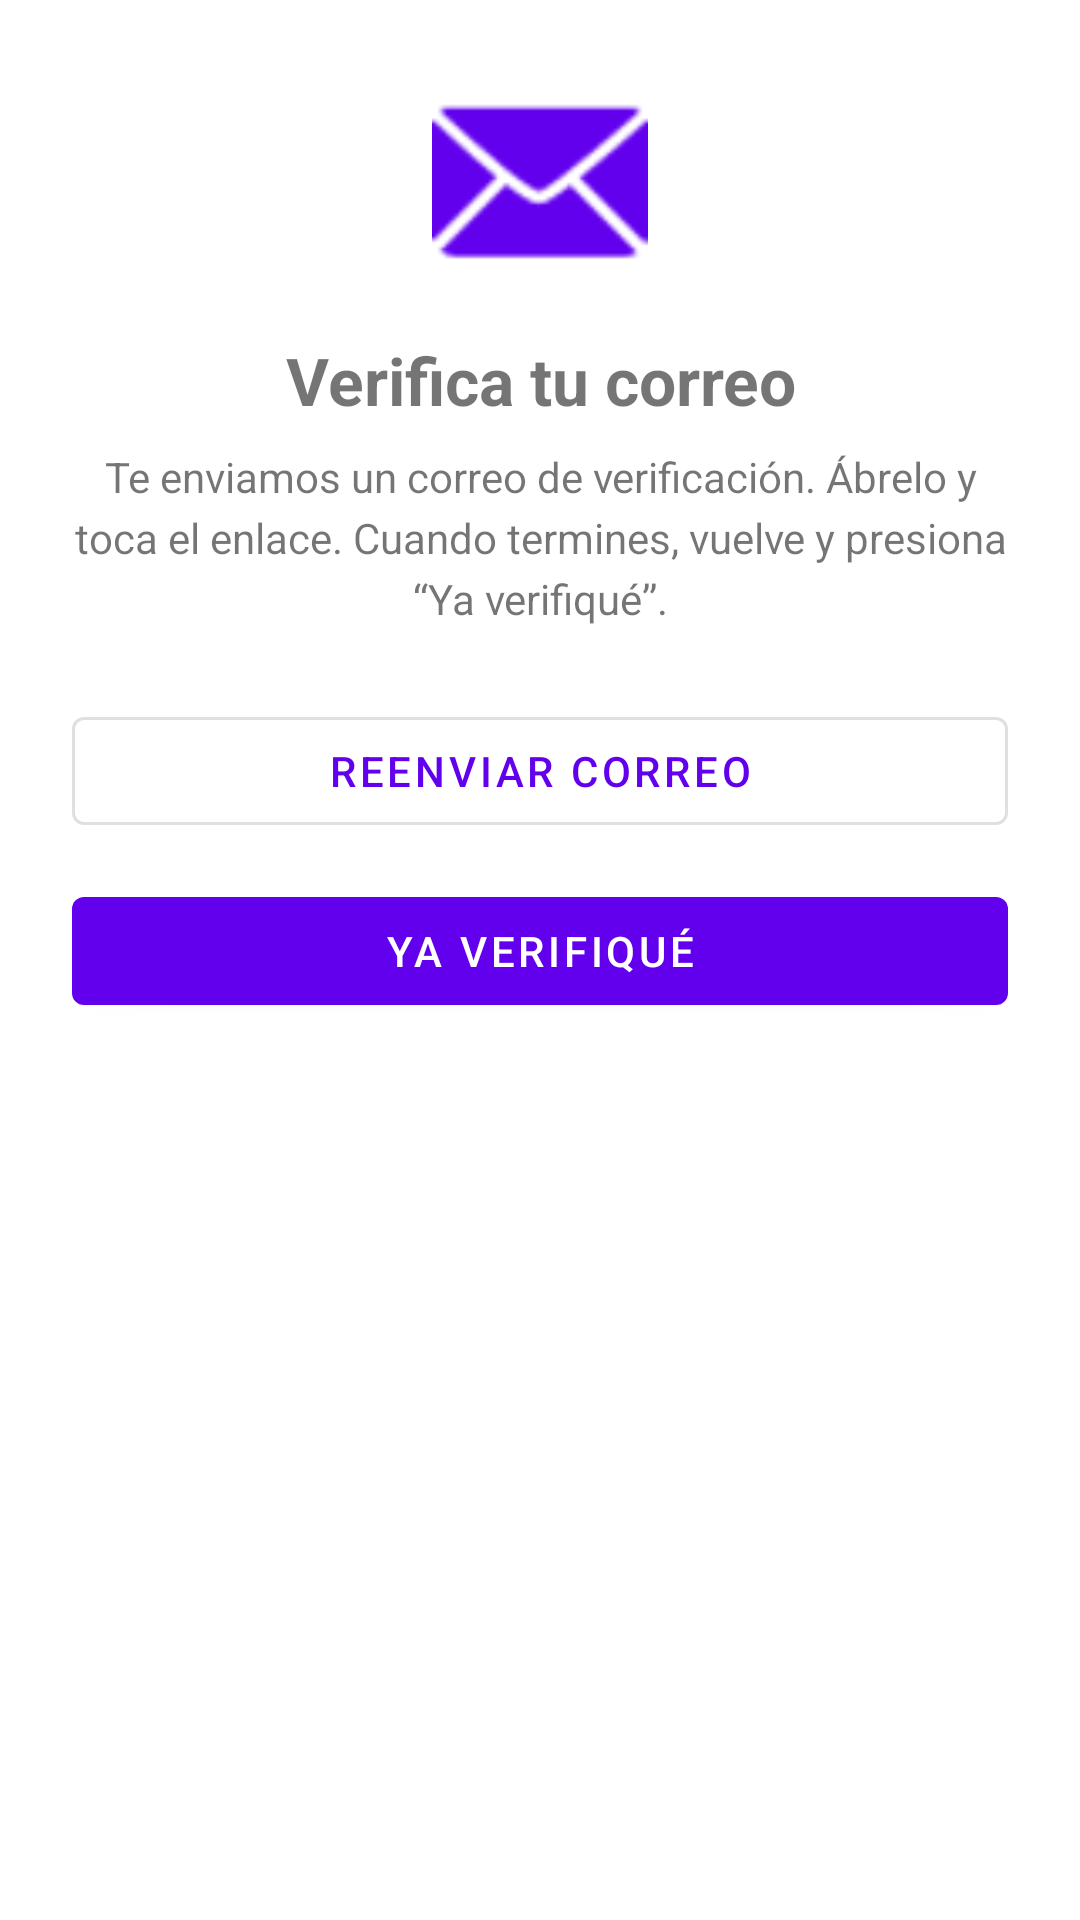

Locate icon controls on the screen. Image size 1080*1920, boxes as (x1, y1, x2, y2).
email: (432, 105, 648, 259)
